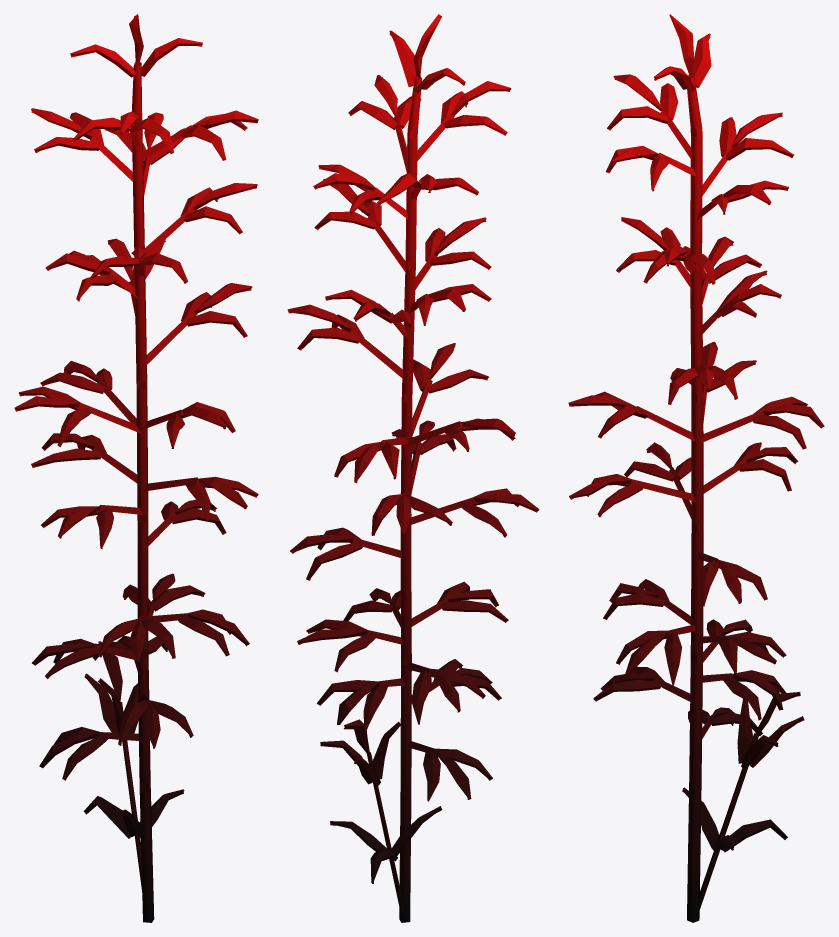
Rendered from TreeBamboo05.fbx.
3 renders of one model, left to right at view 1: azimuth 30°, elevation 25°; view 2: azimuth 150°, elevation 25°; view 3: azimuth 270°, elevation 25°, orthographic. The views are drawn at different scales.
Visible parts, largest first — view 1: TreeBamboo05_LOD0; view 2: TreeBamboo05_LOD0; view 3: TreeBamboo05_LOD0.
Boxes of the visible parts, box(x1,y1,x2,y2) form: TreeBamboo05_LOD0: box(14, 14, 258, 922); TreeBamboo05_LOD0: box(287, 14, 539, 922); TreeBamboo05_LOD0: box(568, 14, 824, 922).
Size of what is drawn, in the model's own units: 119 by 446 by 116.
